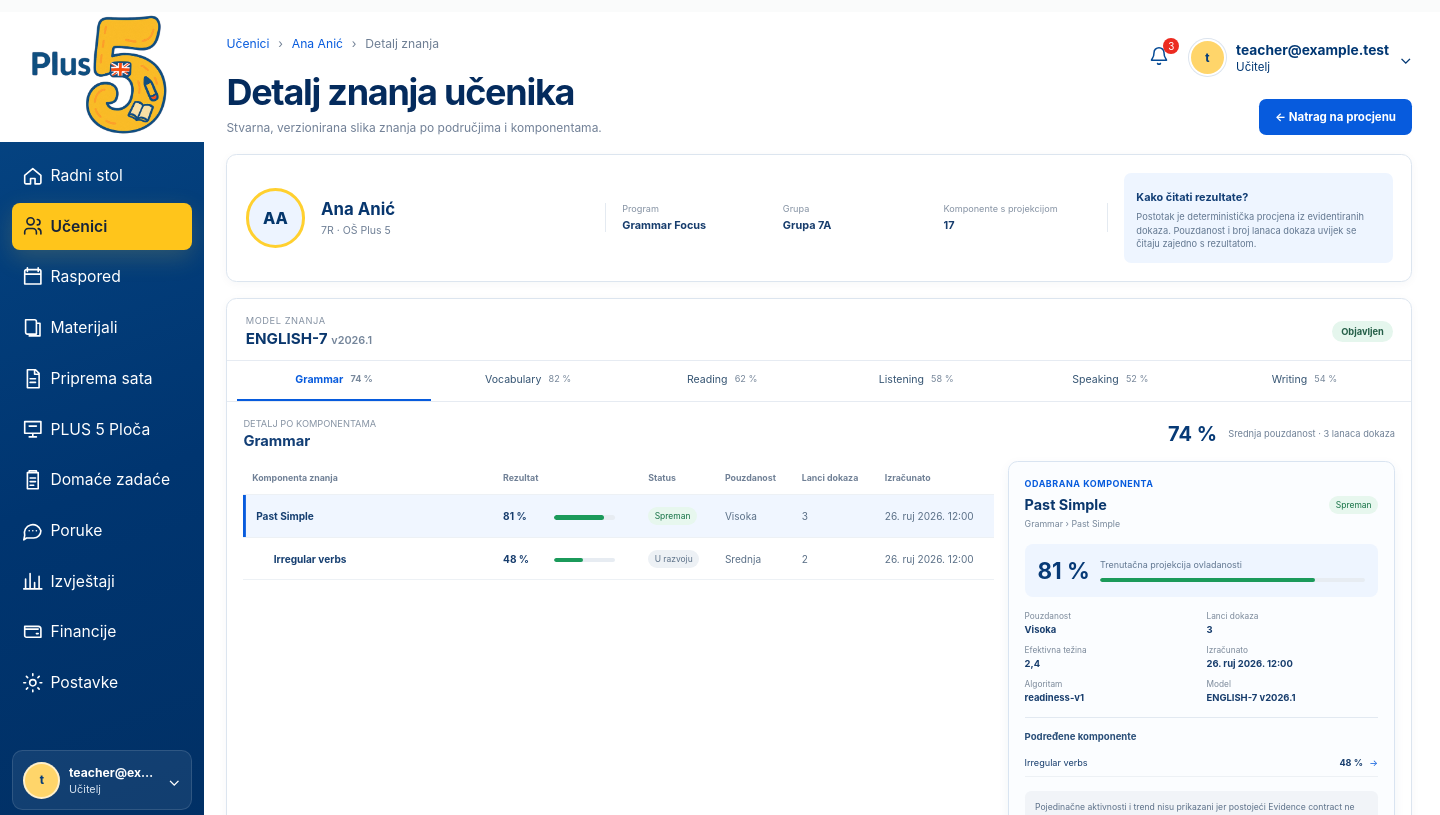
Scenario: student knowledge detail › renders Speaking from observable model skills without a synthetic assessment write
Expected: the heading "Detalj znanja učenika" is shown, [226,70,602,114]
Click the tab "Speaking 52 %".
click(1110, 381)  # box [1013,361,1207,401]
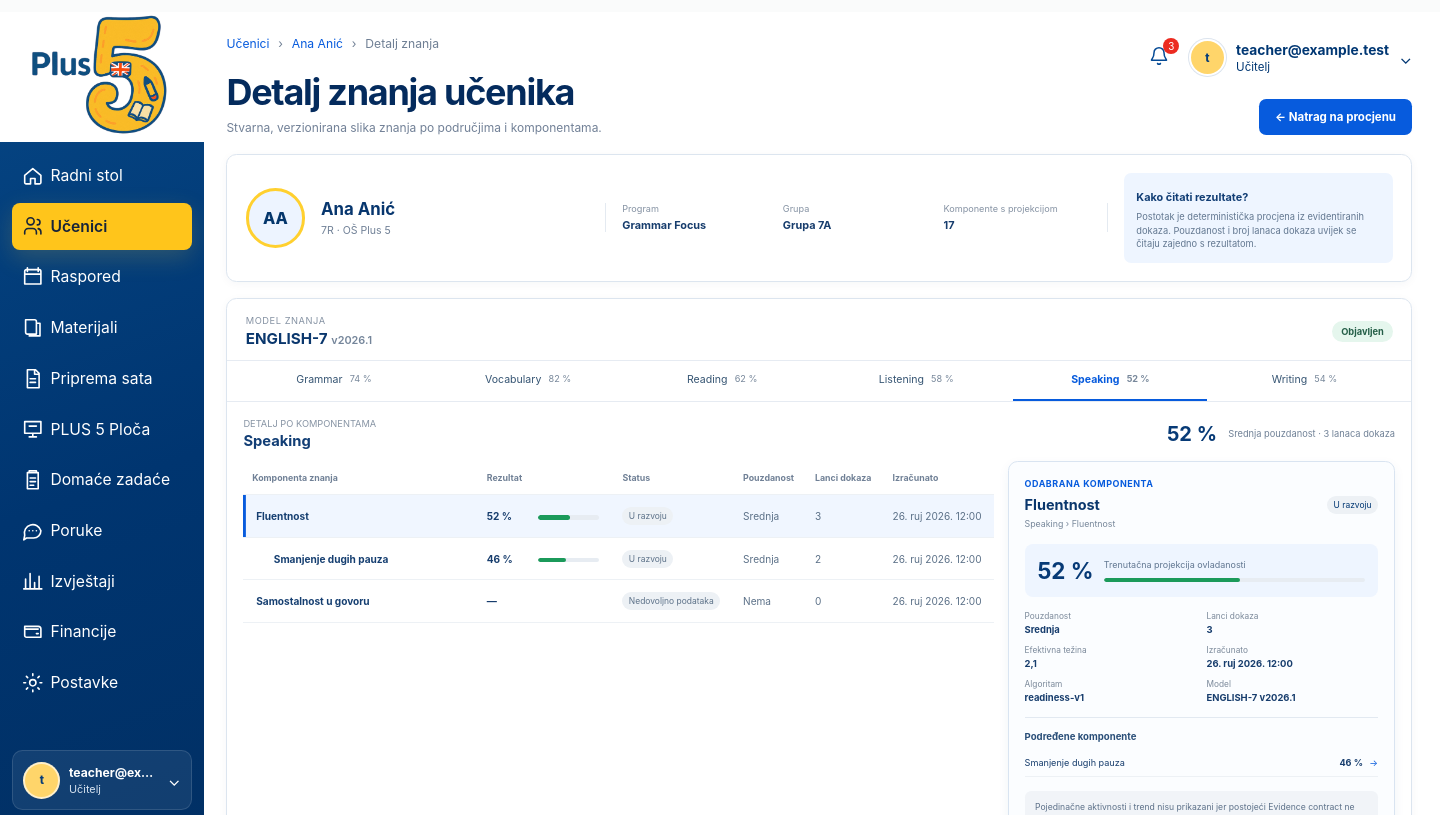
Result: the heading "Fluentnost" is shown at [1025,496,1100,513]
Result: the text "Speaking › Fluentnost" is shown at [1025,518,1115,530]
Click the button "Smanjenje dugih pauza 46 % →".
click(1075, 763)  # box [1025,749,1378,777]
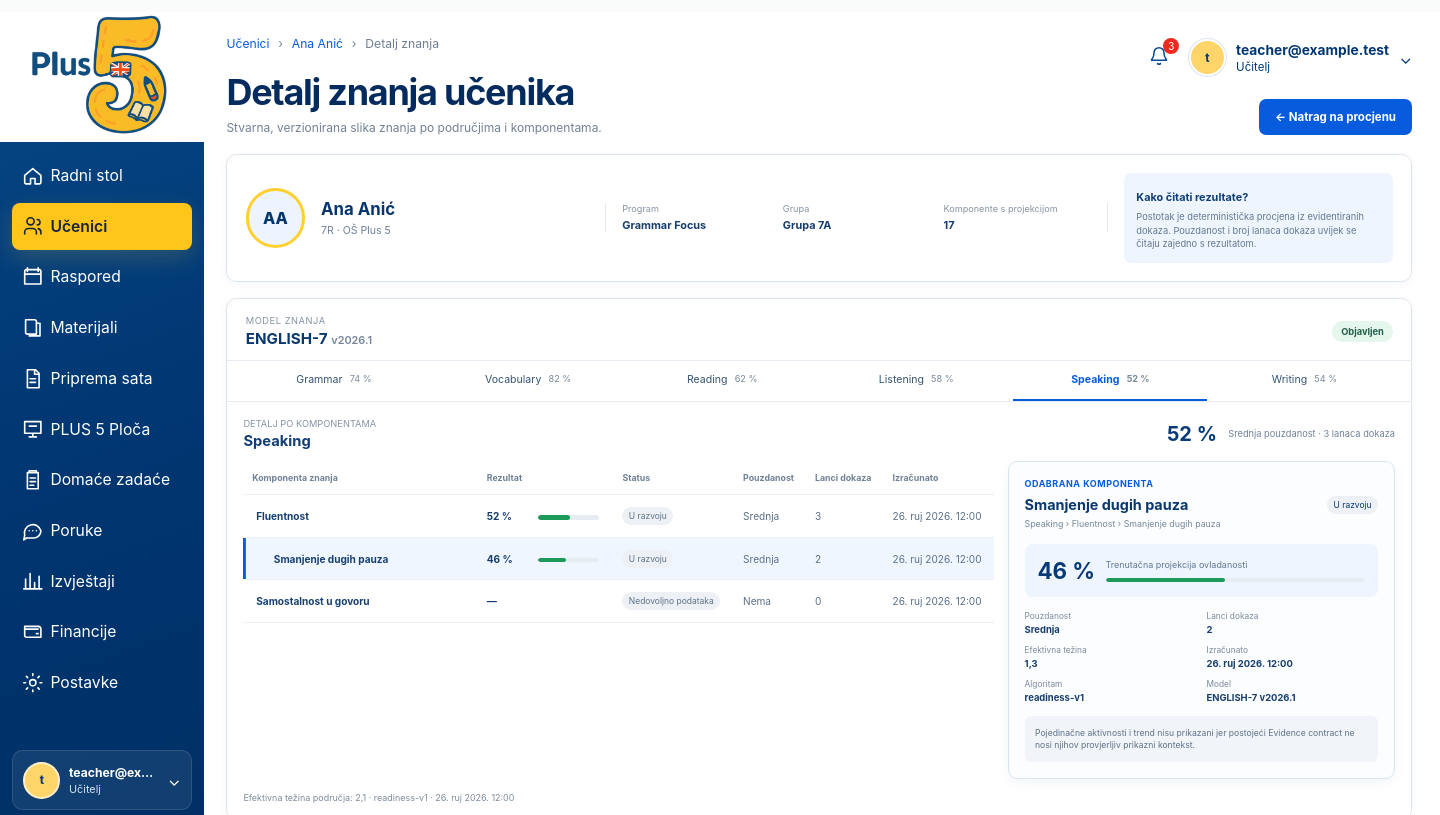
Result: the text "Speaking › Fluentnost › Smanjenje dugih pauza" is shown at [1025,518,1221,530]
Click the button "Samostalnost u govoru".
click(313, 601)  # box [252,592,374,610]
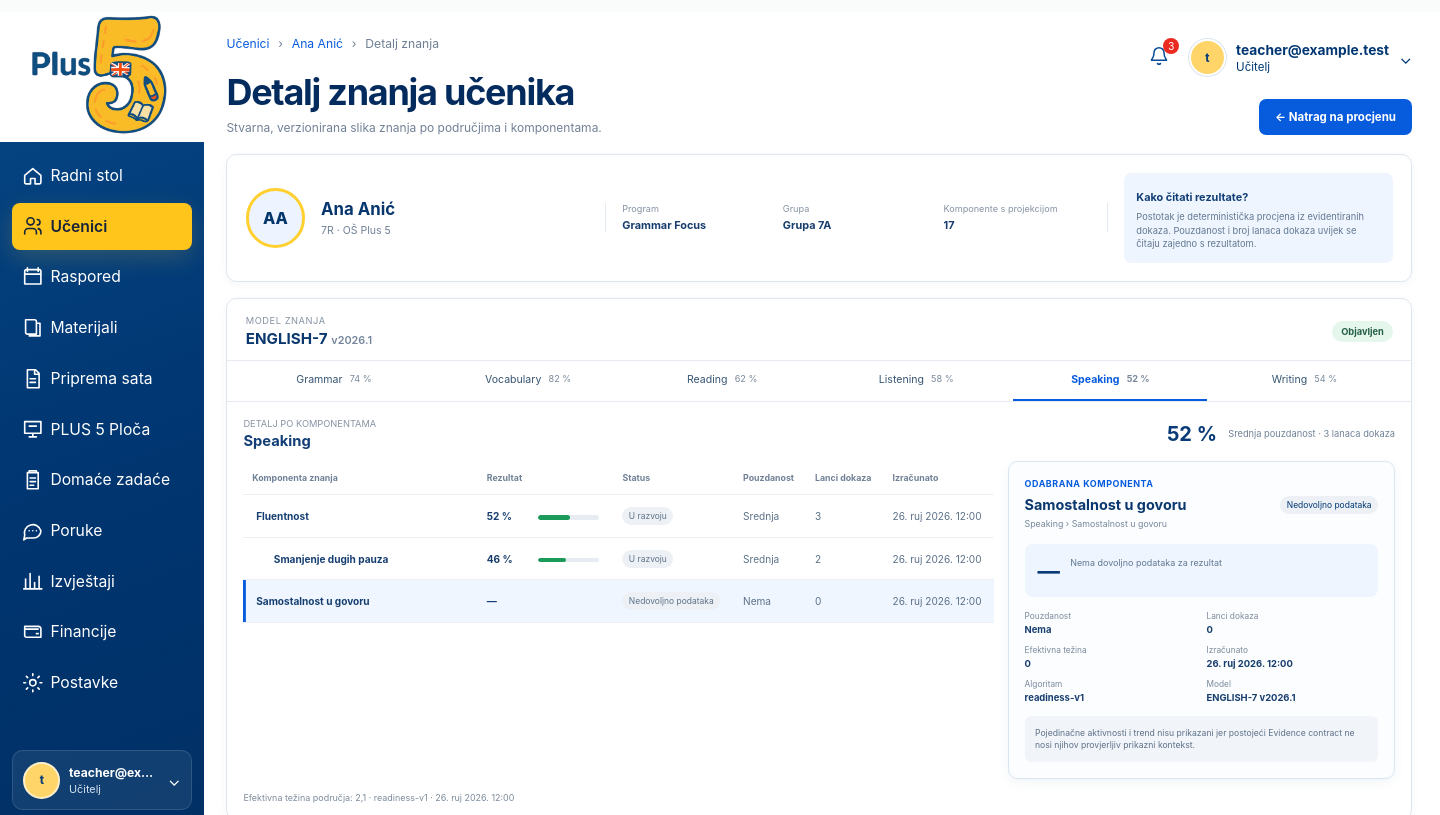
Result: the element "Samostalnost u govoru" is shown at [1008,461,1395,779]
Result: the text "Nema dovoljno podataka za rezultat" is shown at [1070,557,1222,568]
